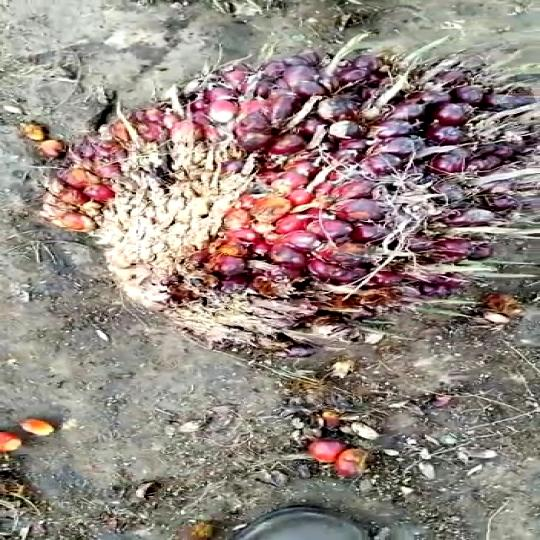masak: (35, 46, 540, 337)
